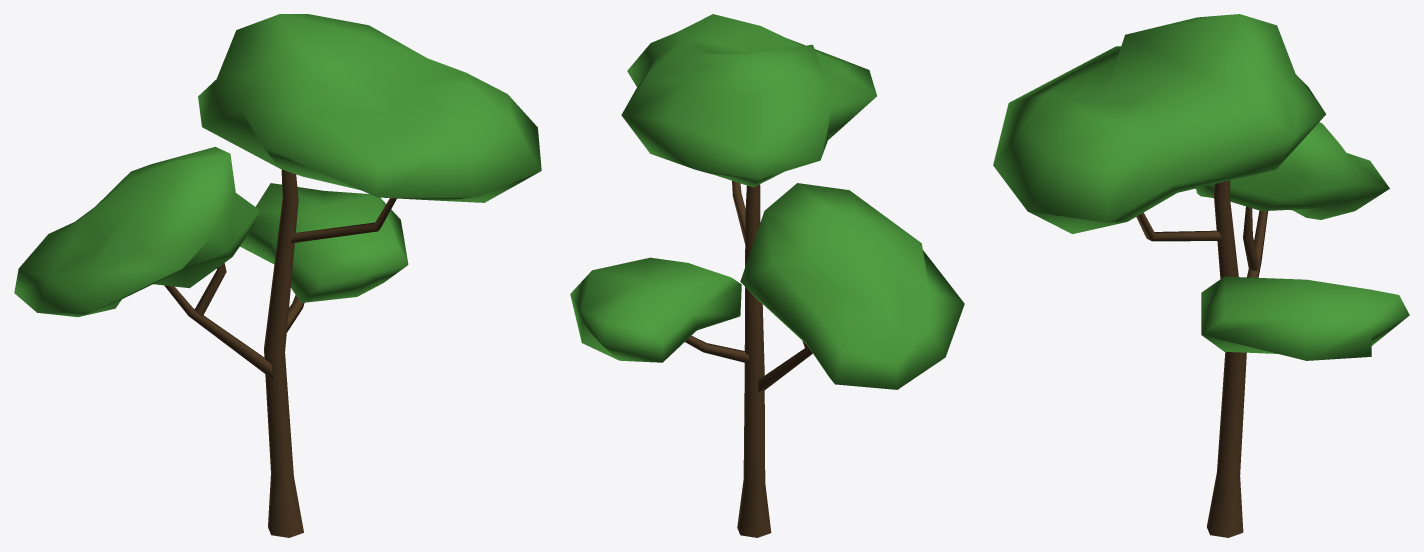
The model's file is Tree7.fbx.
The picture shows the model from 3 angles, left to right: view 1: azimuth 30°, elevation 25°; view 2: azimuth 150°, elevation 25°; view 3: azimuth 270°, elevation 25°; orthographic projection. The views are drawn at different scales.
Visible parts, largest first — view 1: Tree_temp_climate_008; view 2: Tree_temp_climate_008; view 3: Tree_temp_climate_008.
Part boxes in pixels (box(x1,y1,x2,y2)): Tree_temp_climate_008: box(14, 14, 541, 537); Tree_temp_climate_008: box(570, 14, 964, 537); Tree_temp_climate_008: box(993, 14, 1409, 537).
Bounding box in the file's own units: 702 × 817 × 597.
